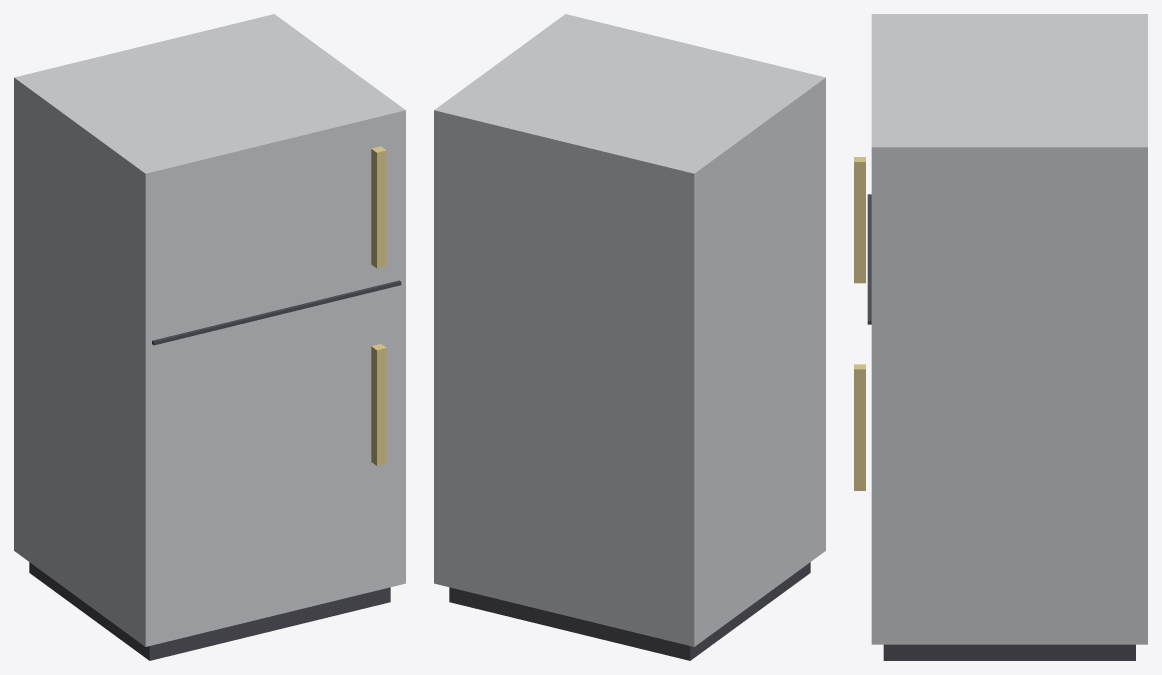
Rendered from bb_set_fridge.fbx.
3 renders of one model, left to right at view 1: azimuth 30°, elevation 25°; view 2: azimuth 150°, elevation 25°; view 3: azimuth 270°, elevation 25°, orthographic. The views are drawn at different scales.
Visible parts, largest first — view 1: bb_set_fridge; view 2: bb_set_fridge; view 3: bb_set_fridge.
Boxes of the visible parts, bbox=[...] form: bb_set_fridge: bbox=[14, 14, 405, 660]; bb_set_fridge: bbox=[434, 14, 825, 660]; bb_set_fridge: bbox=[854, 14, 1147, 660].
Size of the model in its own units: 0.8 by 1.45 by 0.745.
